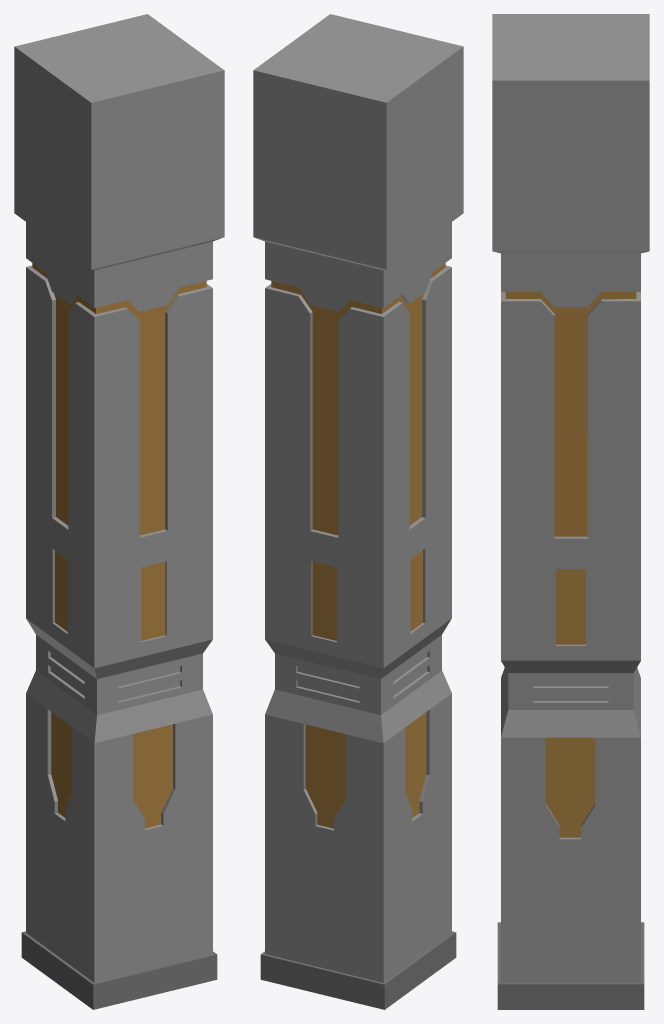
Rendered from column-3-df362b91c7.glb.
3 views of the same model, side by side, from view 1: azimuth 30°, elevation 25°; view 2: azimuth 150°, elevation 25°; view 3: azimuth 270°, elevation 25° (orthographic). The views are drawn at different scales.
Visible parts, largest first — view 1: Column_3.obj; view 2: Column_3.obj; view 3: Column_3.obj.
Boxes of the visible parts, <box> form: Column_3.obj: <box>14,14,224,1009</box>; Column_3.obj: <box>253,14,463,1009</box>; Column_3.obj: <box>492,14,649,1009</box>.
Bounding box in the file's own units: 0.6843 × 4.46 × 0.6843.
